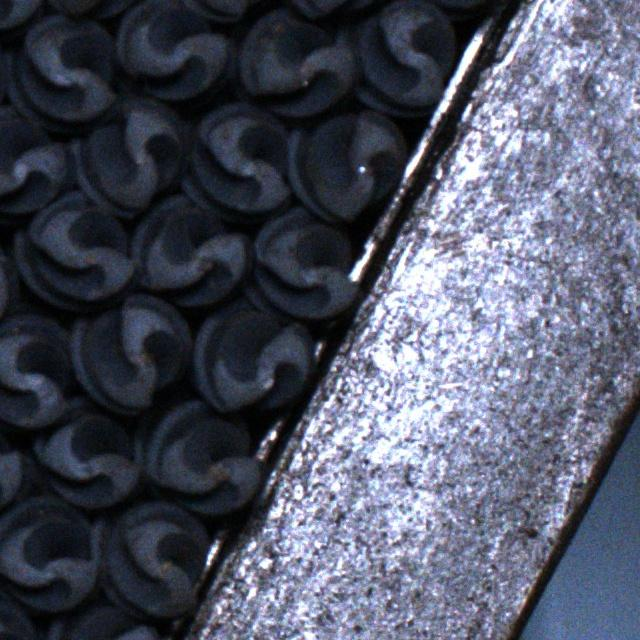tool_b: (71, 294, 196, 414), (132, 402, 262, 517), (11, 189, 133, 309), (129, 192, 252, 307), (2, 15, 120, 134), (90, 502, 208, 620), (336, 2, 456, 118), (190, 300, 311, 414), (72, 97, 188, 215), (286, 109, 407, 220), (182, 102, 294, 221), (236, 7, 357, 115), (241, 205, 355, 318), (117, 2, 240, 106), (29, 396, 138, 508), (0, 497, 100, 614), (0, 303, 76, 426), (0, 105, 68, 222), (46, 600, 164, 640), (0, 393, 26, 519), (278, 0, 406, 19), (41, 1, 163, 20), (400, 1, 520, 20), (0, 586, 42, 640), (170, 1, 286, 20), (0, 0, 45, 38)
